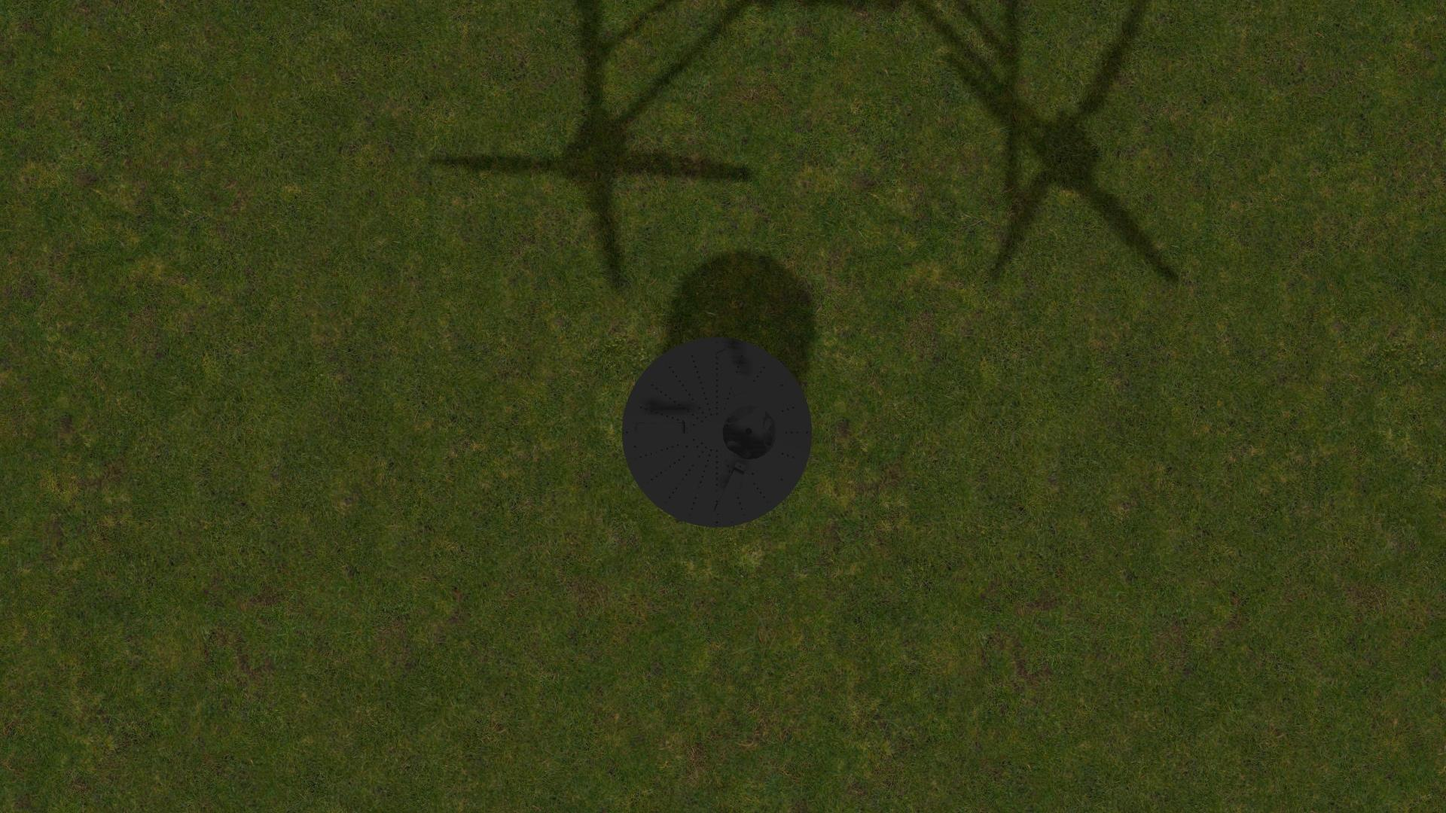alca: (711, 461, 746, 519), (714, 344, 747, 401), (632, 422, 691, 435)
armadilha: (622, 337, 812, 528)
